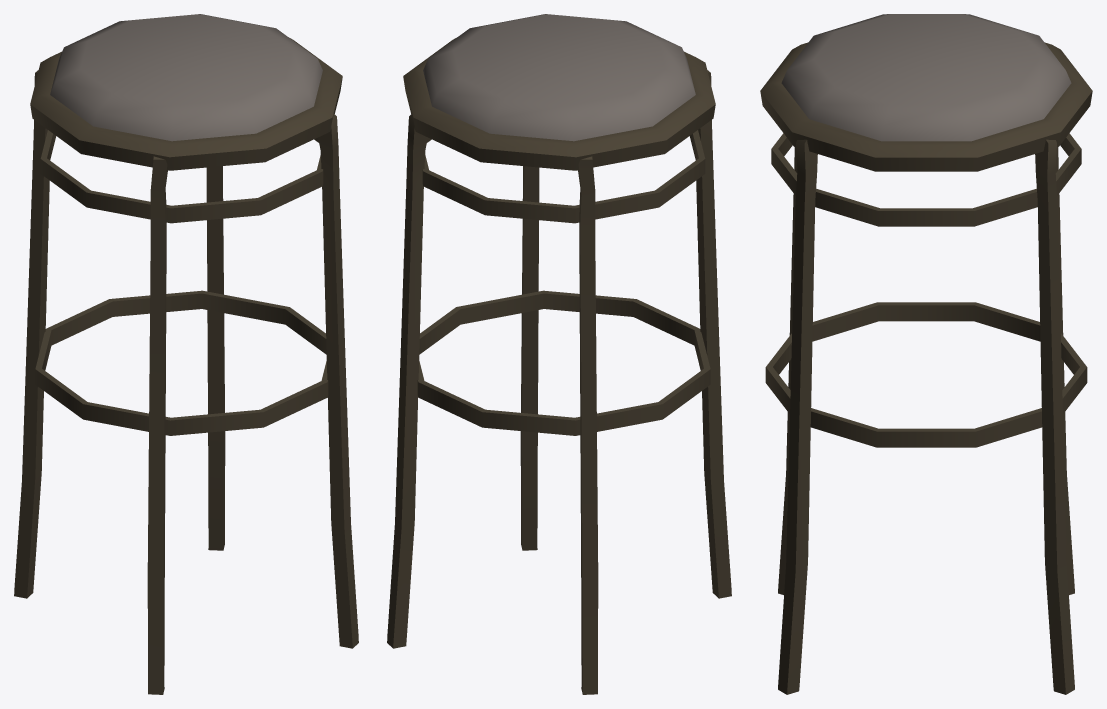
The model's file is stool.glb.
The picture shows the model from 3 angles, left to right: view 1: azimuth 30°, elevation 25°; view 2: azimuth 150°, elevation 25°; view 3: azimuth 270°, elevation 25°; orthographic projection. The views are drawn at different scales.
Parts seen in each view (by area): view 1: stool; view 2: stool; view 3: stool.
Part boxes in pixels (x1=…): stool: x1=14, y1=14, x2=358, y2=694; stool: x1=387, y1=14, x2=731, y2=694; stool: x1=760, y1=14, x2=1092, y2=694.
Size of the model in its own units: 0.2215 by 0.45 by 0.2329.
